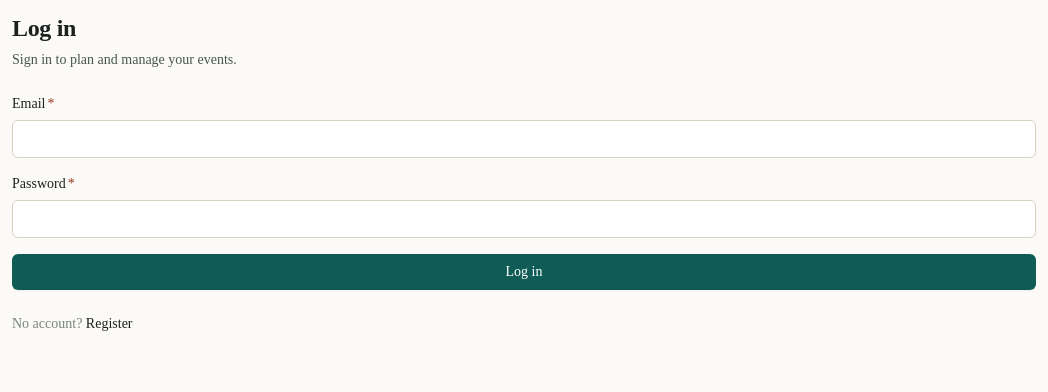
Scenario: Login page › [SPM-21][AC2] puts the server's field errors under the fields they belong to
Type "not-an-email" into the field labelled "Email*".
click(524, 139); type("not-an-email")  # box [12, 120, 1036, 158]
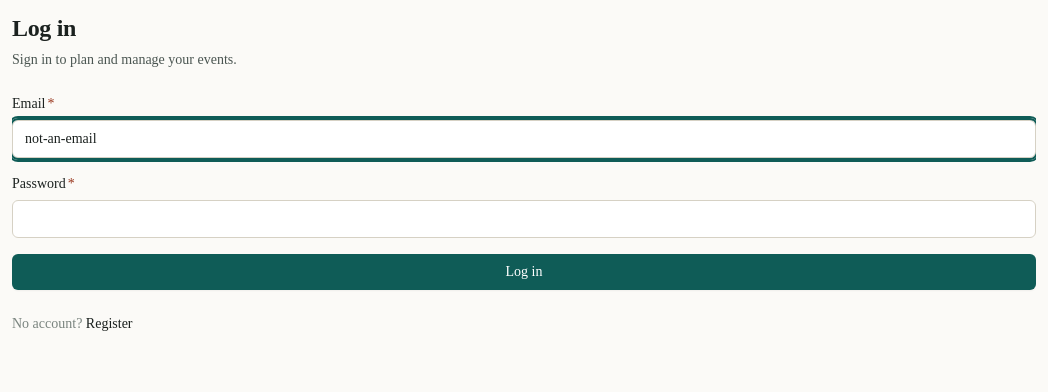
Click the button "Log in".
click(524, 272)  # box [12, 254, 1036, 290]
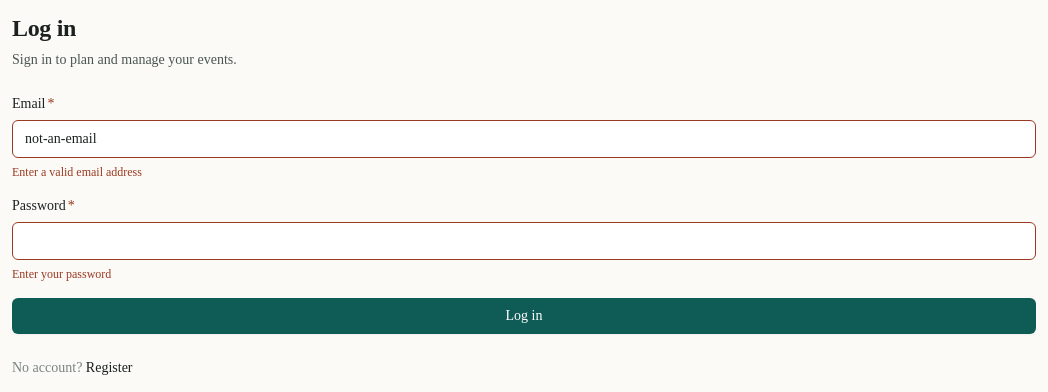
Expected: the text "Enter a valid email address" is shown, [12, 165, 142, 179]
